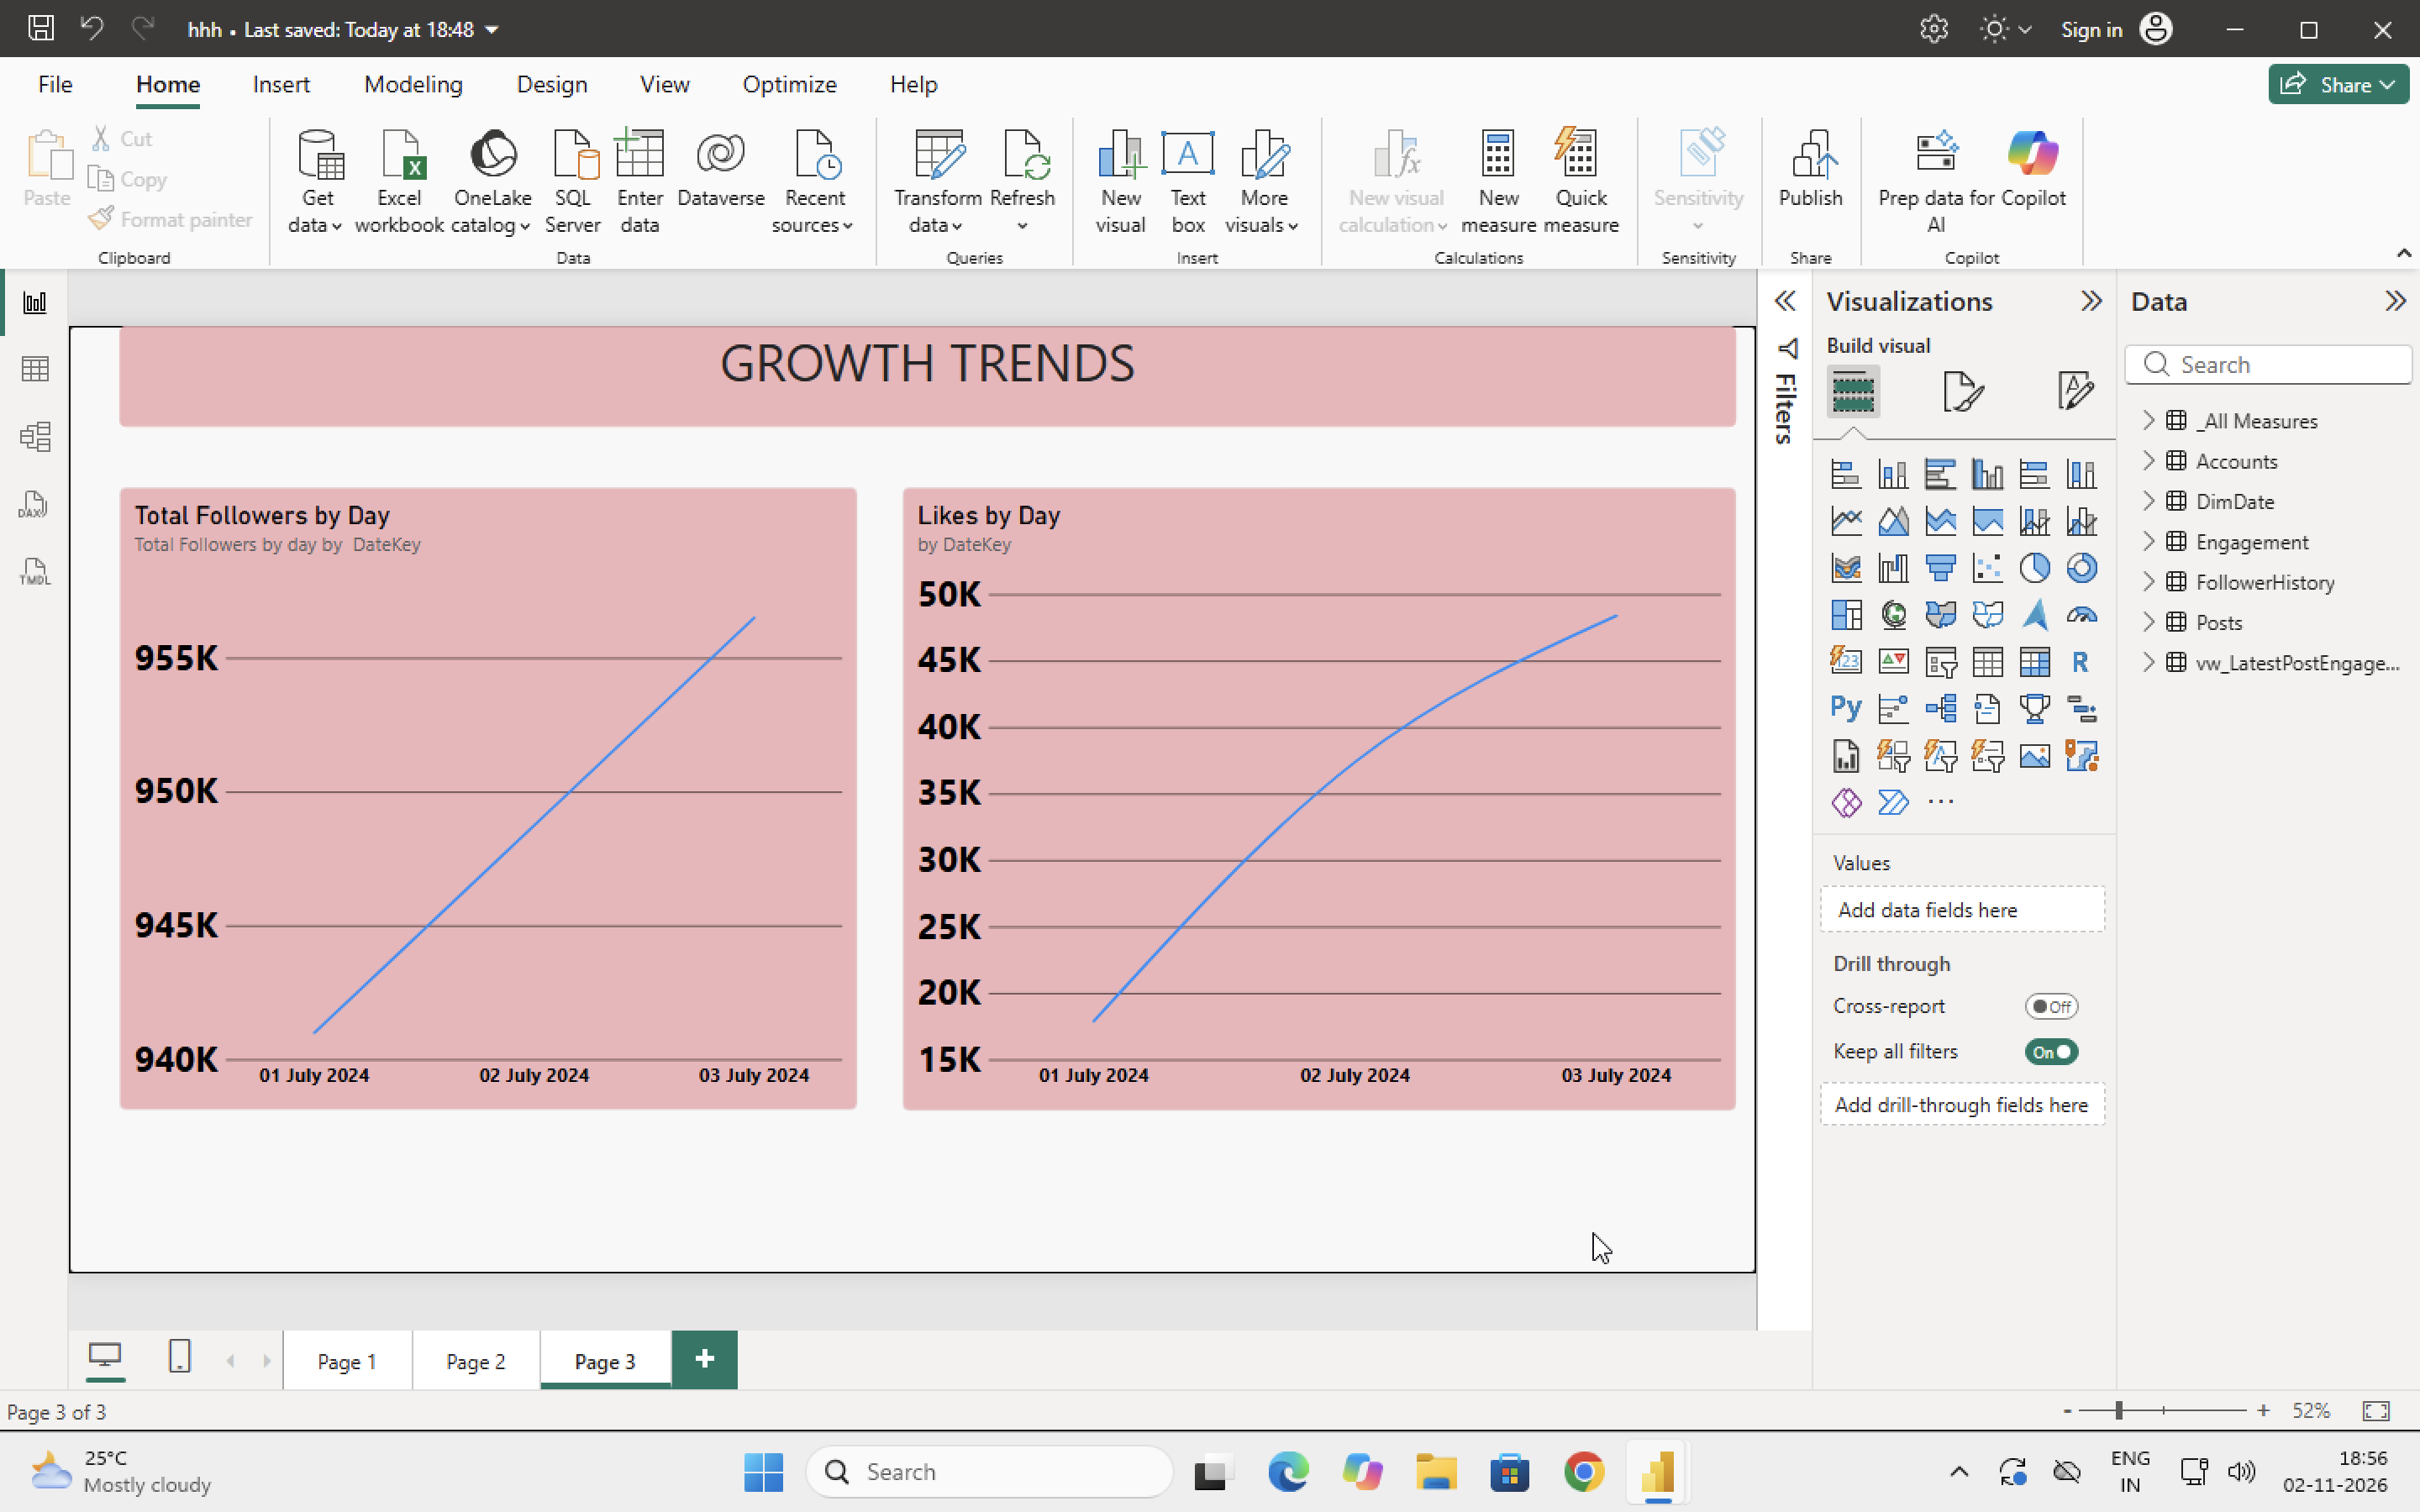

This screenshot's page, from the dashboard's own definition file:
{"tool":"powerbi","page":{"name":"Page 3","canvas":[1920,1080],"ordinal":2},"visuals":[{"type":"lineChart","title":"Total Followers by Day","fields":{"Category":["DimDate.DateKey"],"Y":["Sum(FollowerHistory.FollowerCount)"]},"box":[57.4,183.7,839.5,709.5],"z":0},{"type":"lineChart","fields":{"Category":["DimDate.DateKey"],"Y":["_All Measures.Likes by Day"]},"box":[948.5,183.7,948.5,709.7],"z":1},{"type":"textbox","box":[57.4,0,1839.6,114.8],"z":2}]}

Visuals, with their boxes on the page's 1920x1080 design canvas (x1, y1, x2, y2). These are canvas units, not pixel positions in the 2420x1512 screenshot, which may show the page scaled, cropped or inside an application window:
"Total Followers by Day" lineChart: (57,184,897,893)
lineChart - DimDate.DateKey x _All Measures.Likes by Day: (948,184,1897,893)
textbox: (57,0,1897,115)
